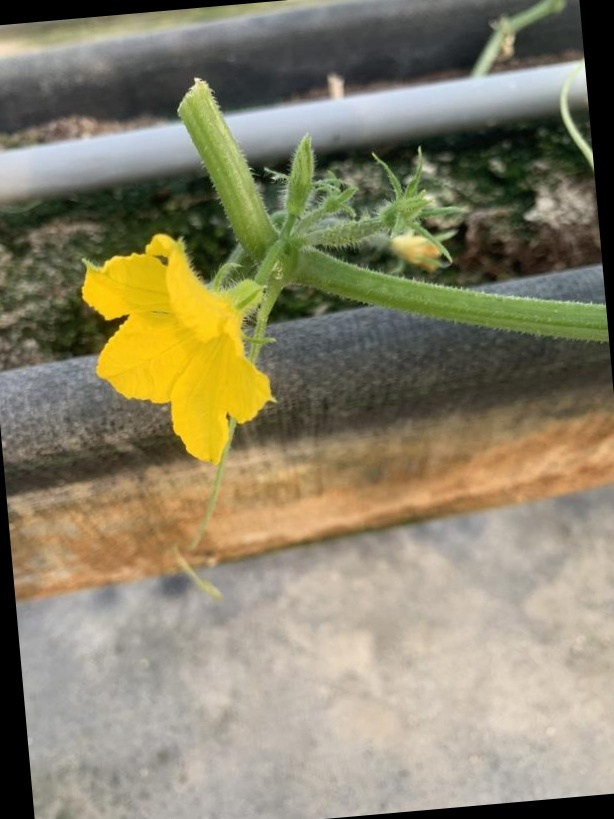flowering: (76, 227, 294, 468)
